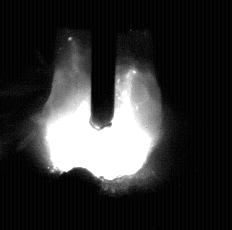arame: (92, 0, 116, 129)
poca: (38, 0, 163, 230)
